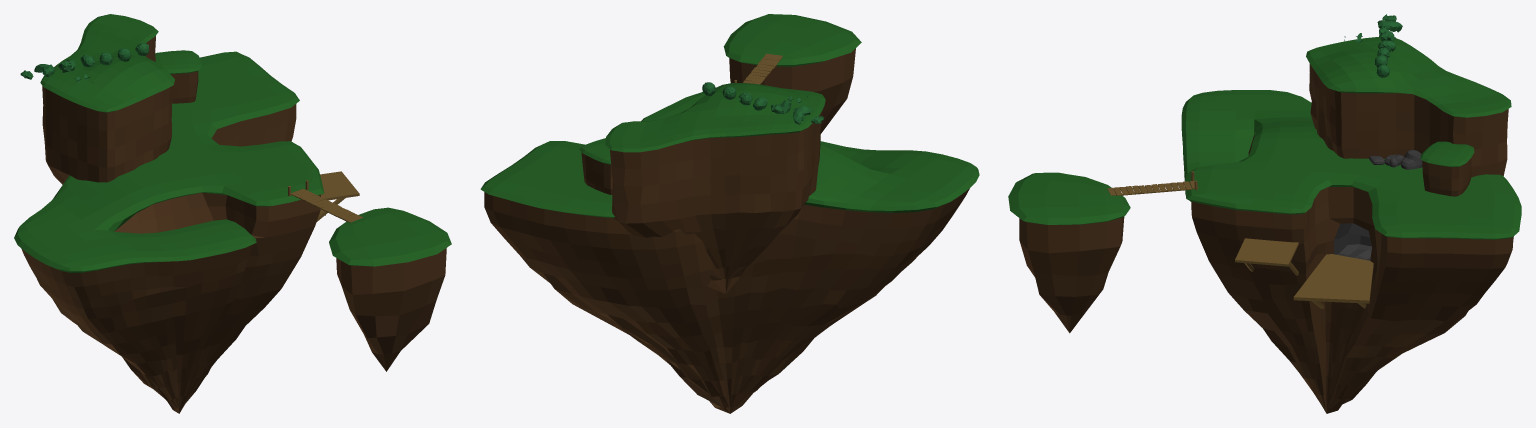
File: IngosAbenteuer_Models_01.fbx
The picture shows the model from 3 angles, left to right: view 1: azimuth 30°, elevation 25°; view 2: azimuth 150°, elevation 25°; view 3: azimuth 270°, elevation 25°; orthographic projection. The views are drawn at different scales.
Parts seen in each view (by area): view 1: island_lvl01_main, island_lvl01_mountain, island_small_01, mountain_small_01, wooden_platform, bridge; view 2: island_lvl01_main, island_lvl01_mountain, island_small_01, mountain_small_01, bridge; view 3: island_lvl01_main, island_lvl01_mountain, island_small_01, wooden_platform_big_lvl1, mountain_small_01, wooden_platform, bridge.
Boxes of the visible parts, x1,y1,x2,y2 form: island_lvl01_main: (14,51,324,413); island_lvl01_mountain: (40,14,174,184); island_small_01: (329,207,451,371); mountain_small_01: (155,50,201,103); wooden_platform: (316,171,359,221); bridge: (291,189,362,222); island_lvl01_main: (480,92,979,413); island_lvl01_mountain: (605,83,825,293); island_small_01: (723,14,861,133); mountain_small_01: (579,138,612,194); bridge: (743,53,782,84); island_lvl01_main: (1181,90,1521,413); island_lvl01_mountain: (1306,37,1511,177); island_small_01: (1008,172,1130,333); wooden_platform_big_lvl1: (1293,254,1373,308); mountain_small_01: (1420,141,1474,196); wooden_platform: (1235,238,1298,275); bridge: (1107,181,1197,195).
Size of the model in its own units: 4409 by 4268 by 5746.
